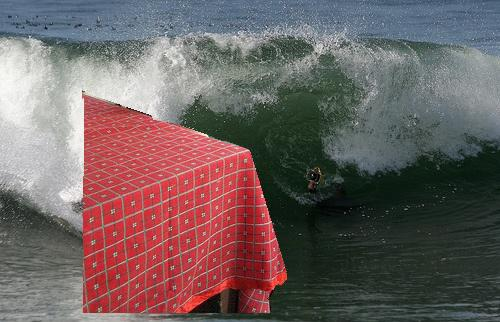tampered: (83, 91, 287, 313)
